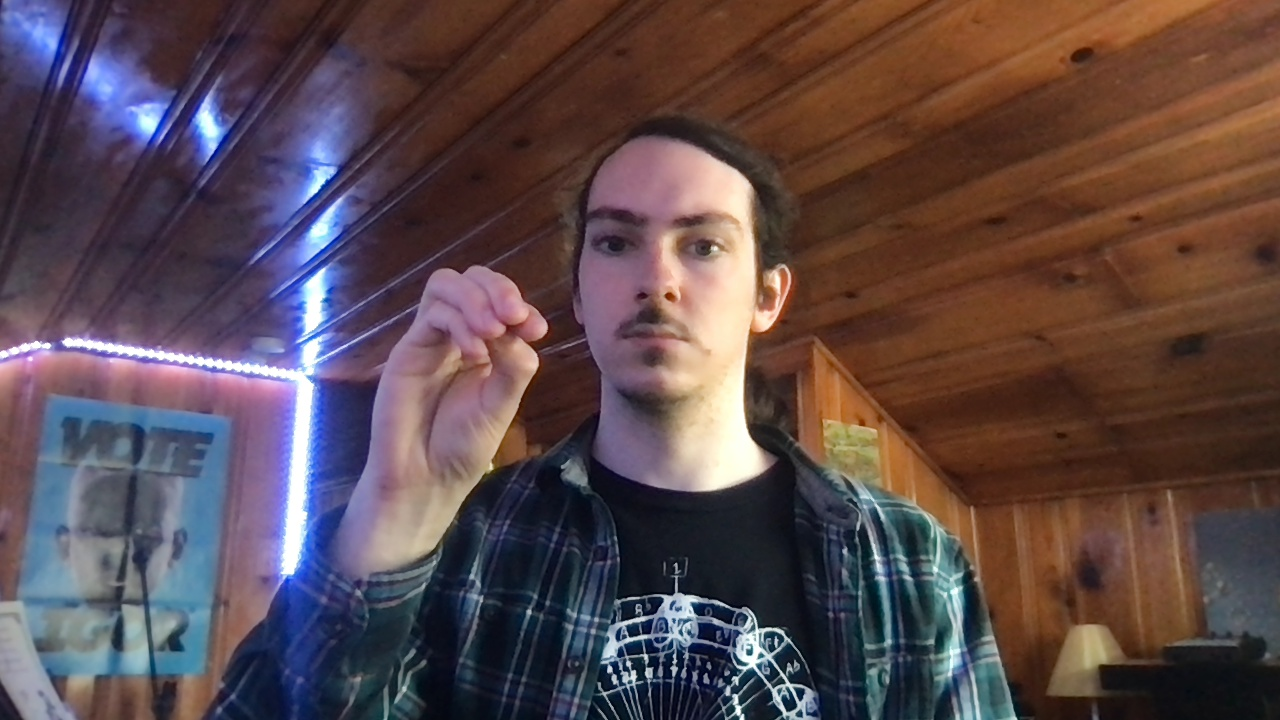m: (366, 263, 551, 493)
